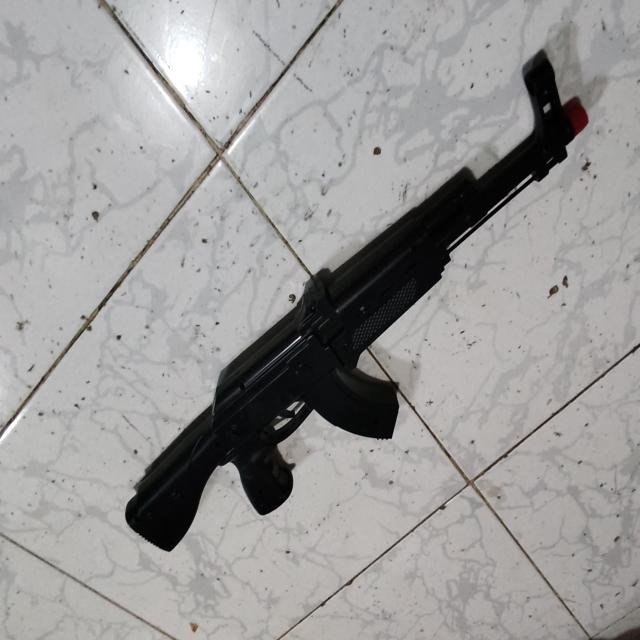rifle: (126, 49, 588, 554)
